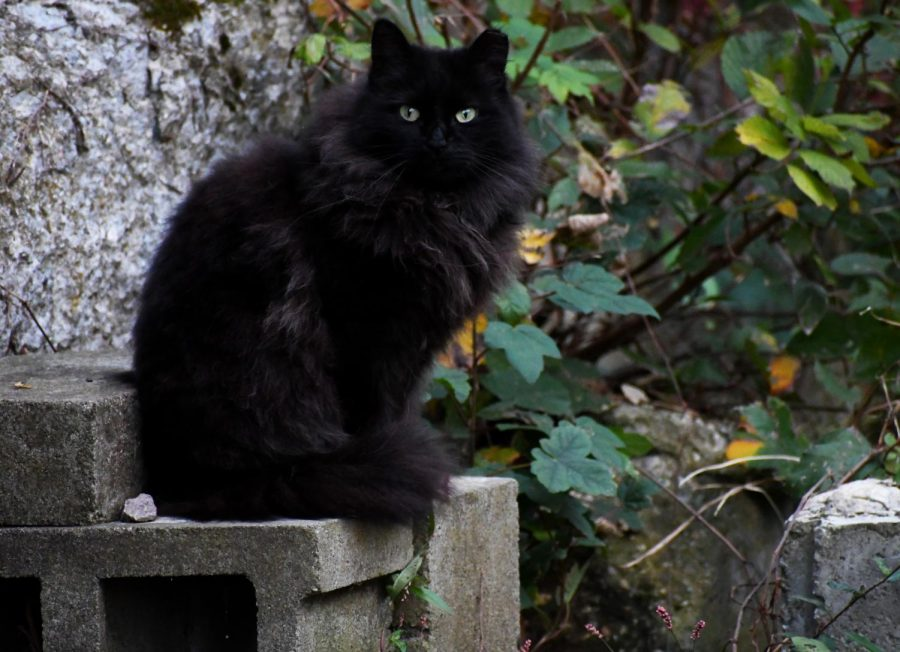Cat: (120, 10, 557, 537)
